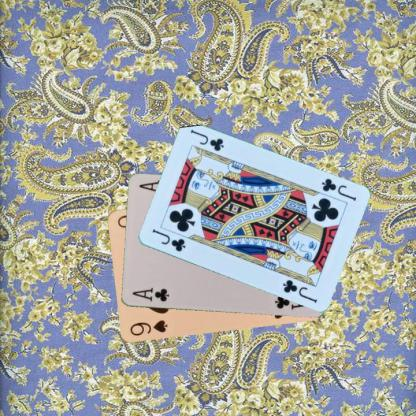9s: (127, 318, 169, 337)
Ac: (130, 285, 170, 303)
Jc: (318, 176, 357, 202), (149, 227, 187, 253)
